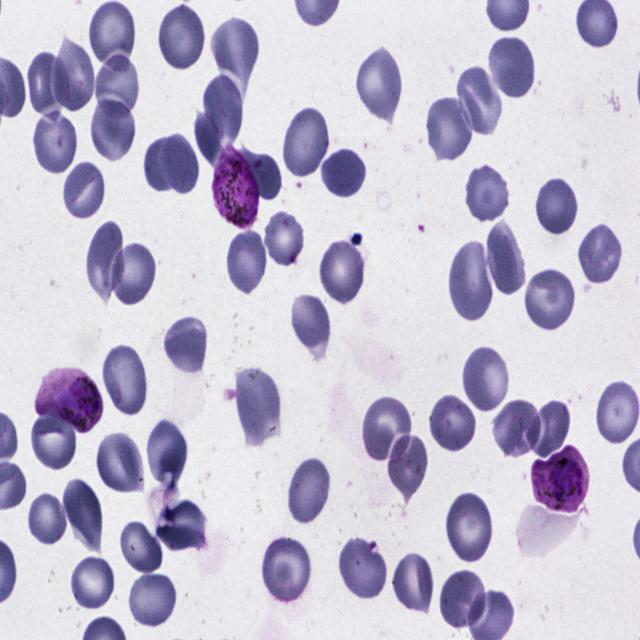gametocyte: (212, 144, 259, 230)
red blood cell: (233, 367, 284, 446), (448, 237, 495, 321), (202, 70, 246, 159), (355, 45, 404, 123), (459, 342, 512, 414), (522, 265, 578, 332), (101, 343, 150, 419), (210, 15, 264, 83), (359, 394, 413, 461), (446, 491, 495, 564), (259, 537, 314, 602), (282, 106, 330, 180), (457, 64, 505, 138), (48, 38, 96, 112), (156, 4, 208, 72), (108, 240, 159, 309), (86, 216, 125, 306), (425, 92, 475, 162), (338, 534, 390, 600), (487, 33, 537, 101), (87, 0, 137, 68), (318, 238, 366, 308), (426, 392, 480, 454), (94, 430, 146, 494), (485, 220, 528, 294), (578, 221, 626, 287), (287, 455, 332, 525), (144, 418, 191, 485), (595, 378, 640, 447), (161, 312, 210, 375), (64, 475, 105, 550), (438, 568, 487, 630), (387, 430, 430, 500), (492, 399, 542, 459), (27, 51, 70, 120), (95, 54, 140, 119), (90, 99, 137, 161), (290, 290, 334, 356), (32, 113, 78, 176), (465, 162, 512, 223), (225, 229, 269, 294), (128, 573, 178, 629), (160, 128, 200, 197), (156, 500, 208, 553), (533, 174, 578, 235), (528, 397, 572, 458), (30, 414, 77, 470), (392, 553, 432, 618), (62, 160, 106, 219), (263, 209, 306, 267), (70, 556, 114, 612), (119, 521, 163, 576), (27, 491, 68, 547), (243, 149, 285, 202), (322, 149, 368, 197), (141, 136, 179, 192)
trophozoite: (34, 365, 103, 432), (528, 446, 592, 514)
